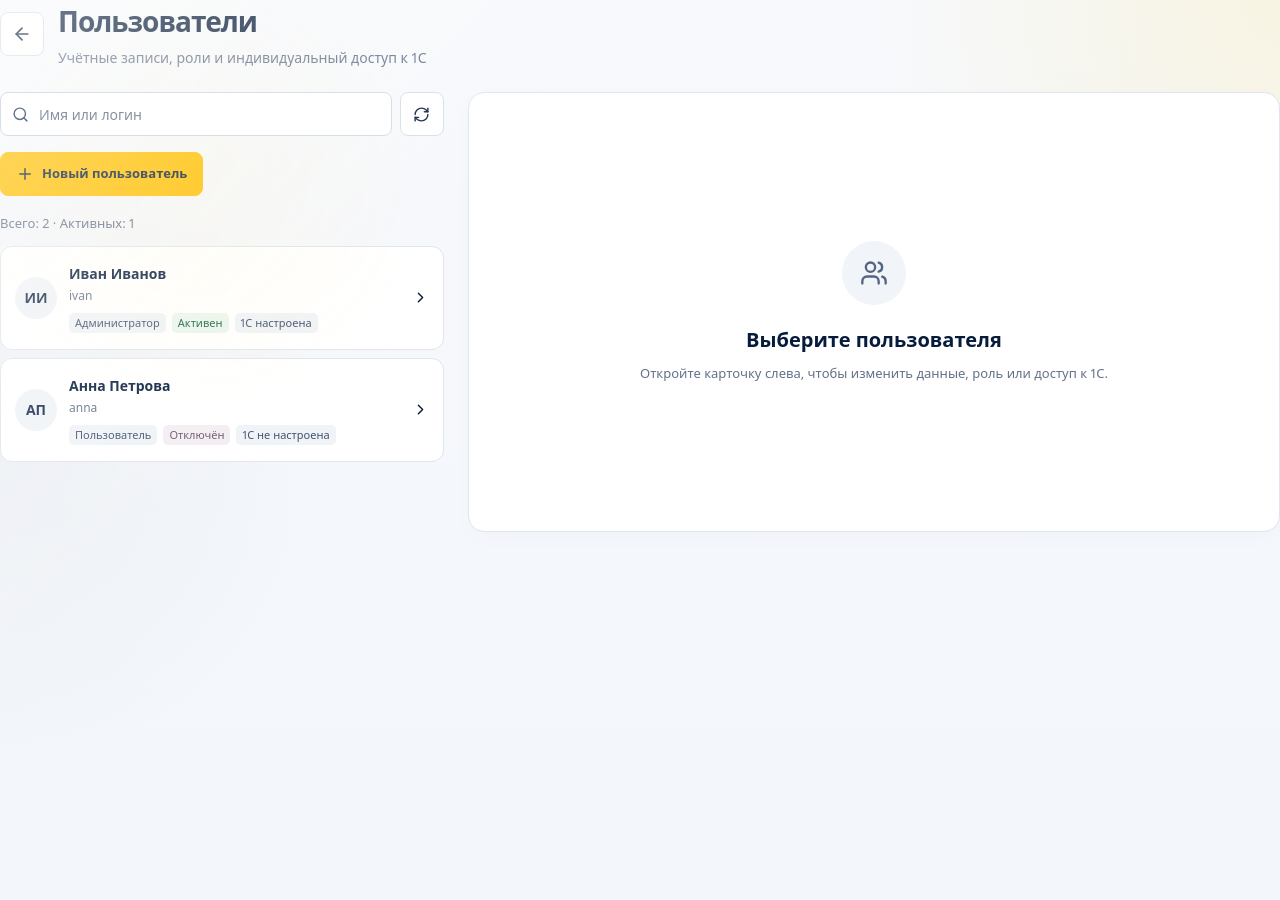
Test: Users settings › shows separate desktop detail sections and saves one exact update payload
Click the button "ИИ Иван Иванов ivan Администратор Активен 1С настроена": (36, 298) [0,246,444,350]
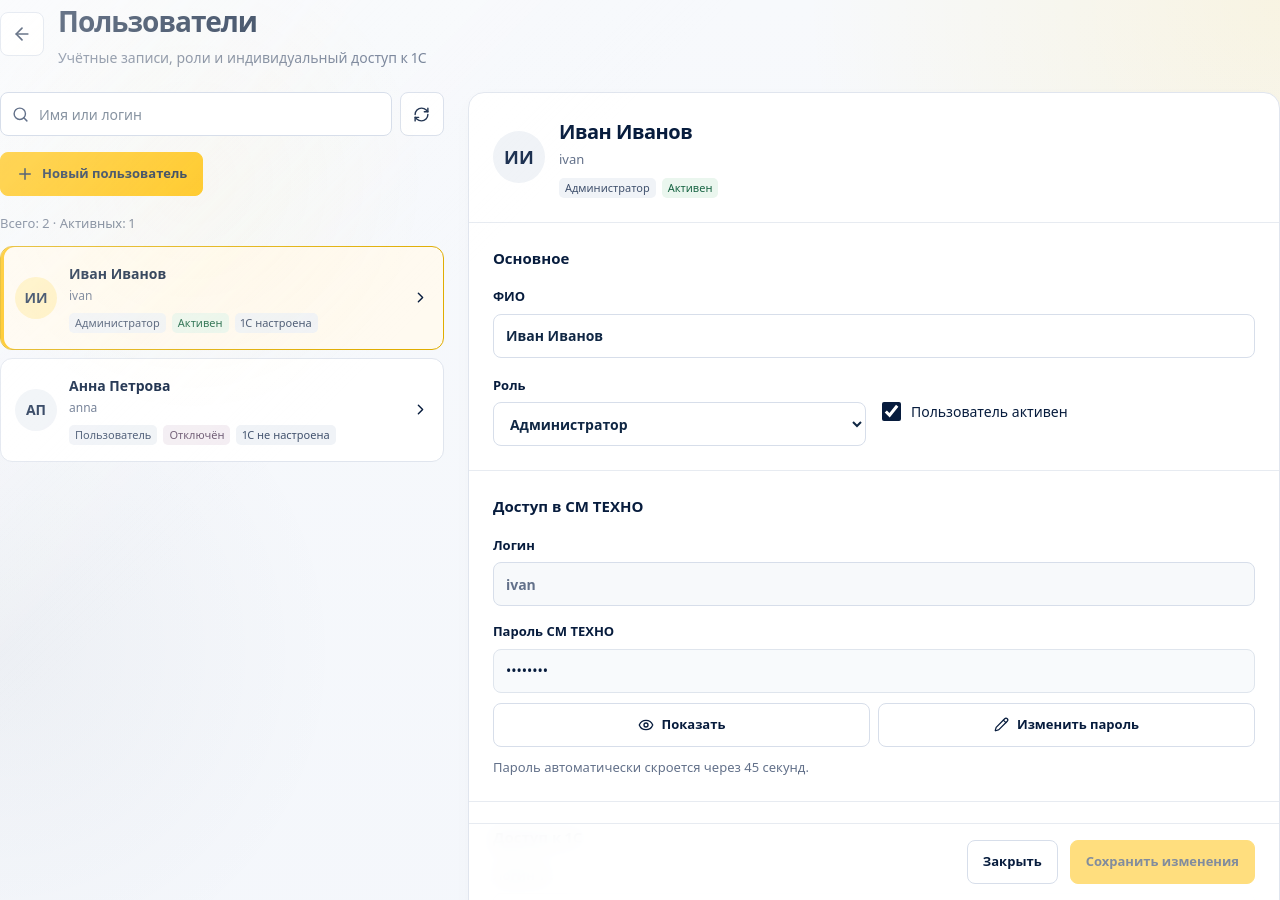
expect the button "АП Анна Петрова anna Пользователь Отключён 1С не настроена" is shown: met, box [0,358,444,462]
expect the heading "Основное" is shown: met, box [493,248,569,268]
expect the heading "Доступ в СМ ТЕХНО" is shown: met, box [493,496,643,516]
Replace the text in the field labelled "ФИО" with "Иван Новиков": (874, 336) [493,314,1255,358]
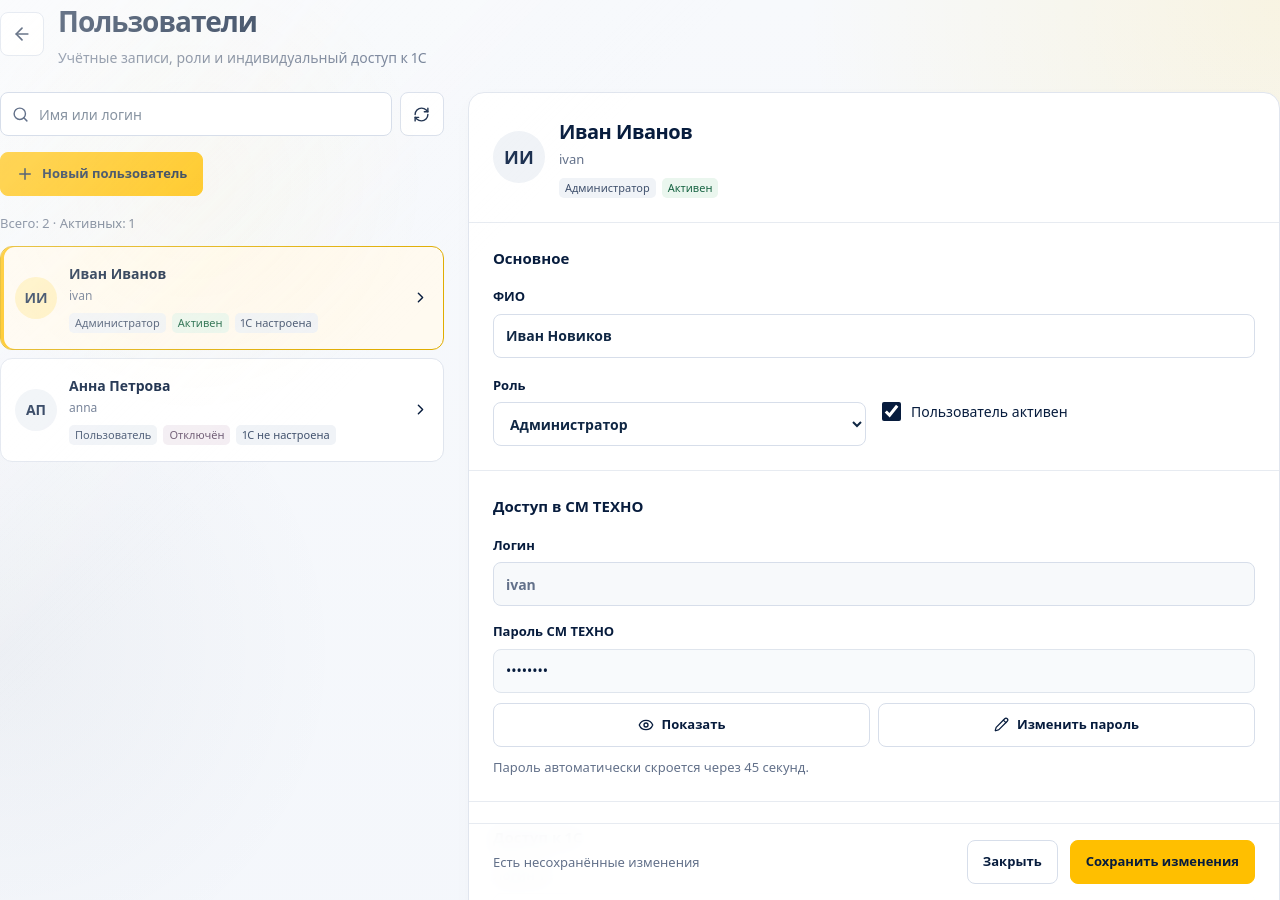
Select "Пользователь" in the dropdown labelled "Роль": (679, 424) [493,402,866,446]
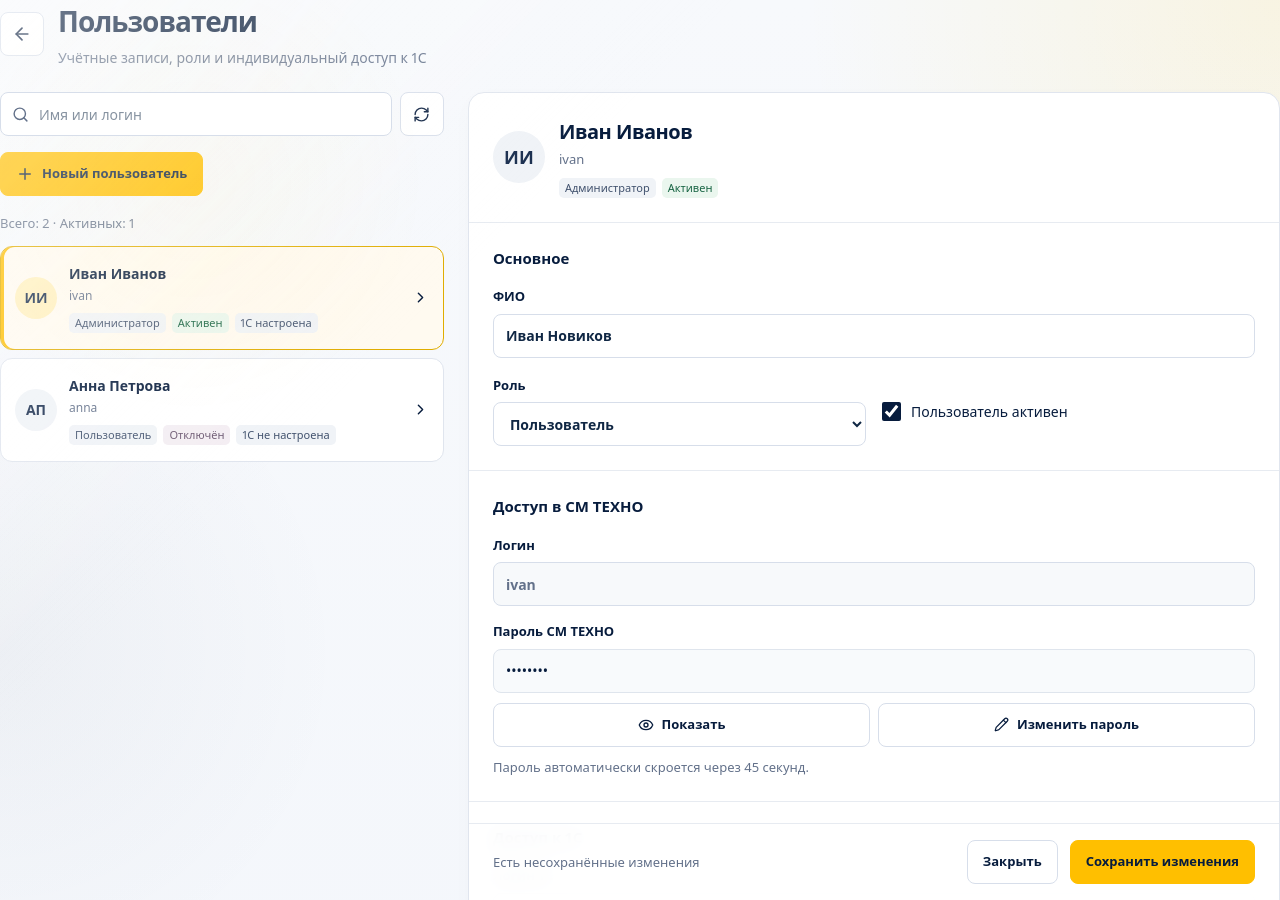
Click the checkbox labelled "Пользователь активен": (892, 411) [882,402,901,420]
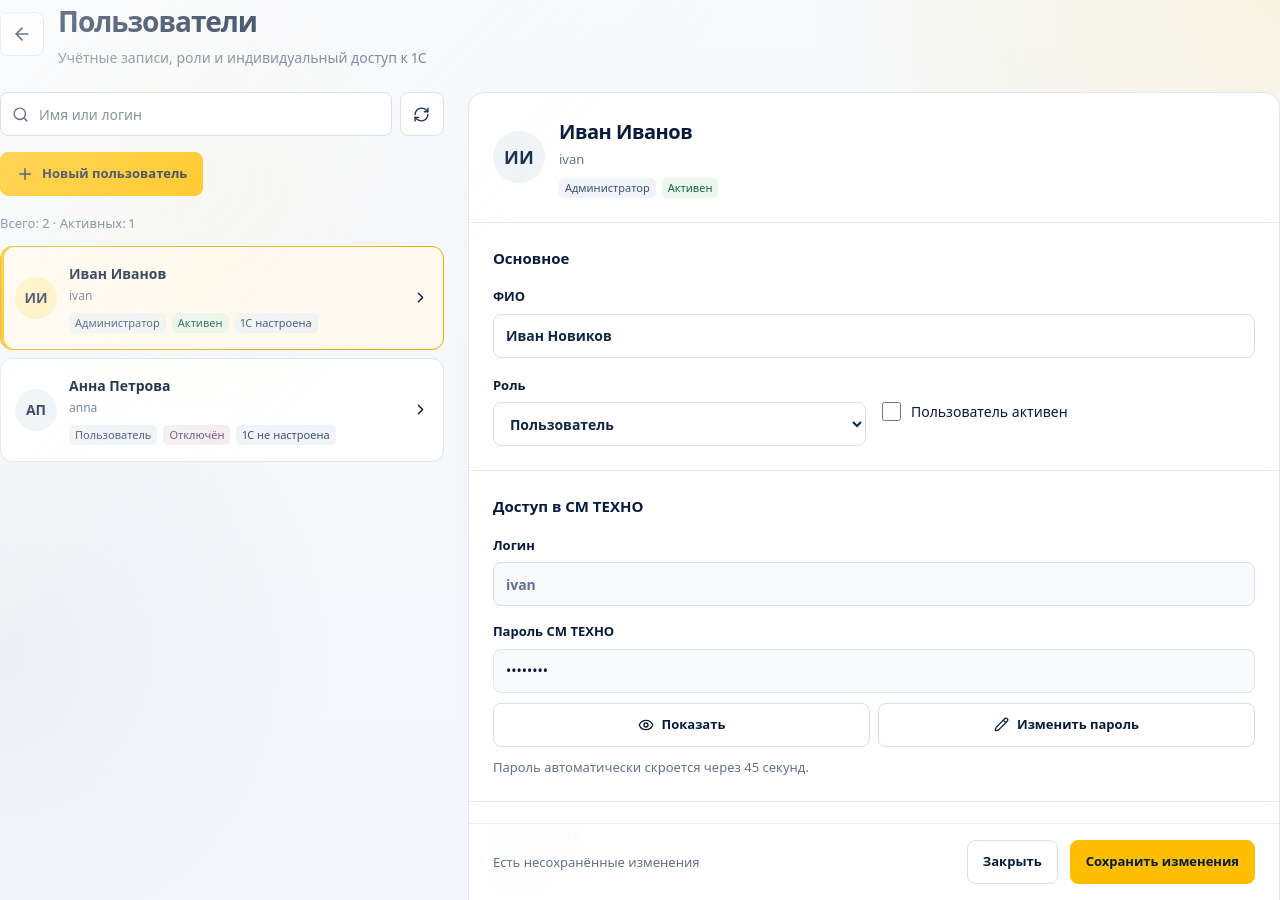
Click the button "Сохранить изменения": (1162, 862) [1070,840,1255,884]
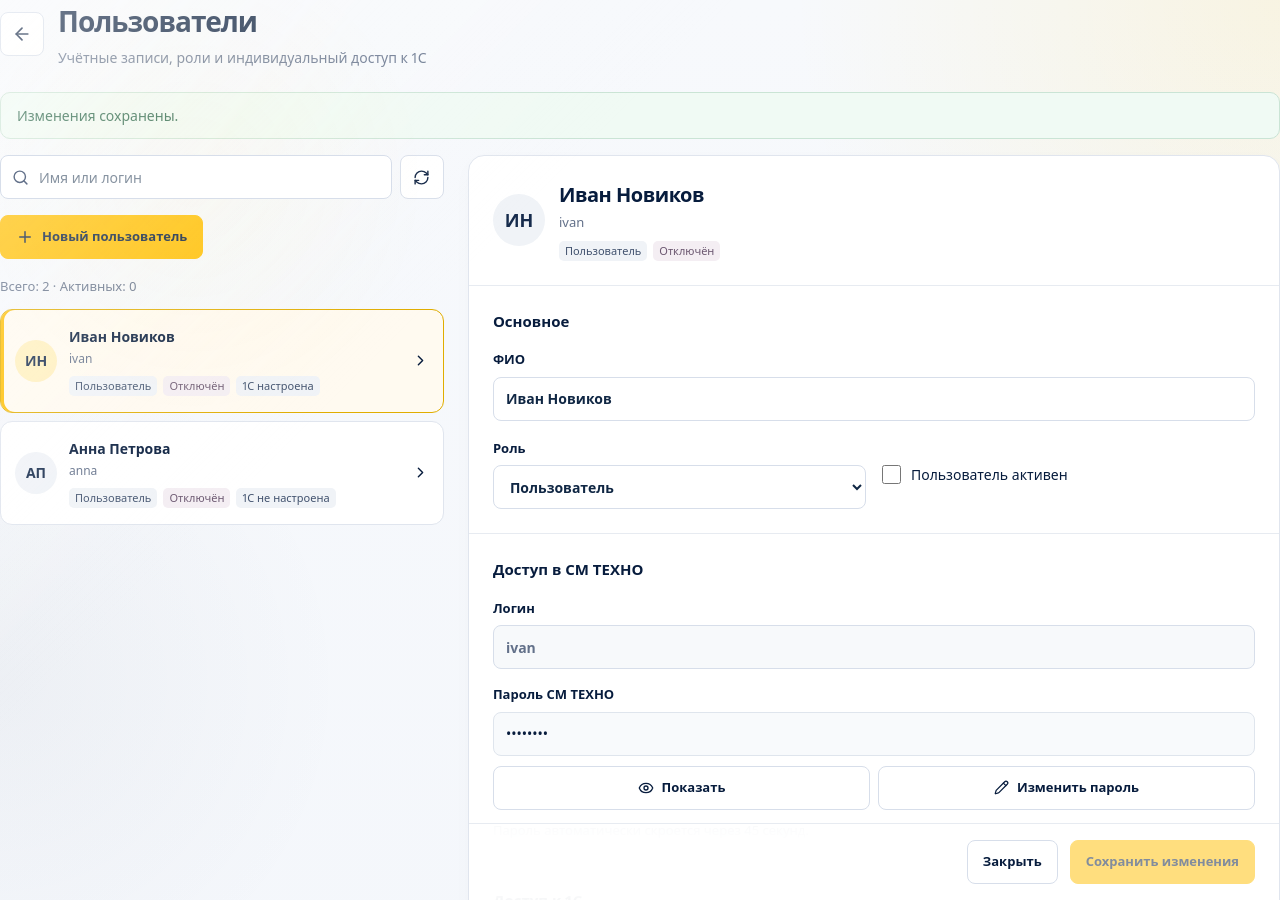
expect the text "Изменения сохранены." is shown: met, box [0,92,1279,139]
